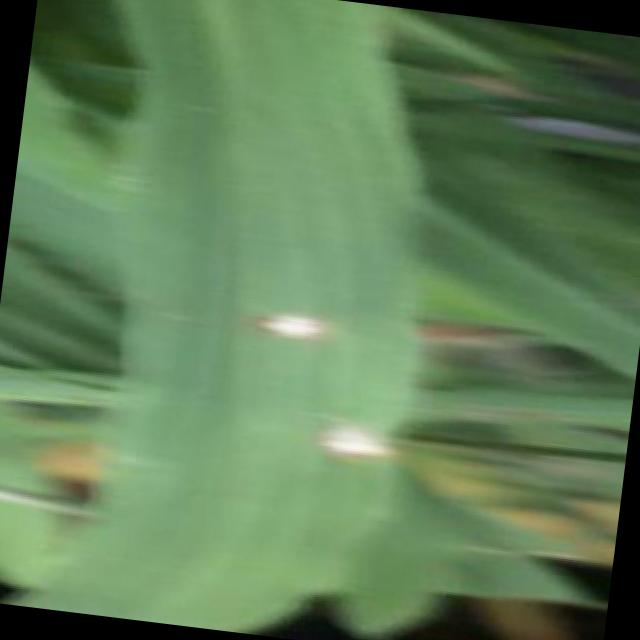Rice_Blast: (288, 403, 426, 508), (234, 264, 349, 366)
